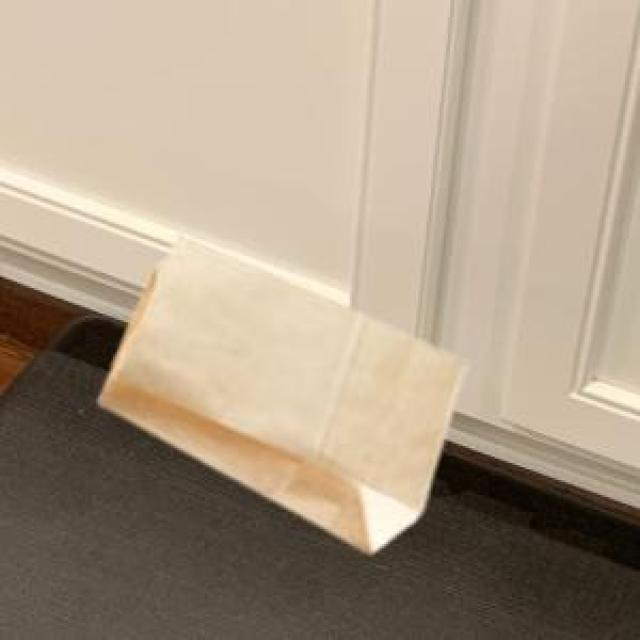paper: (96, 233, 463, 548)
